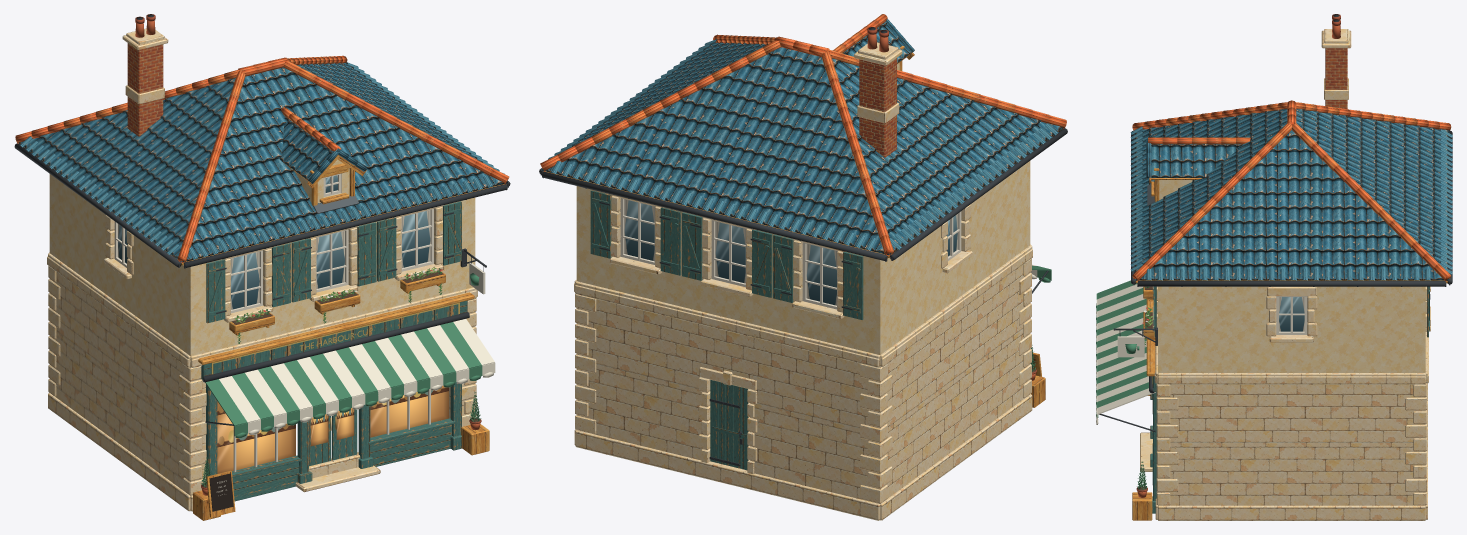
The picture shows the model from 3 angles, left to right: view 1: azimuth 30°, elevation 25°; view 2: azimuth 150°, elevation 25°; view 3: azimuth 270°, elevation 25°; orthographic projection. The views are drawn at different scales.
Parts seen in each view (by area): view 1: seaside_roof, seaside_stone, house_paint, seaside_shutter, seaside_plaster, seaside_ridge, shop_glass, house_window_pane, seaside_timber, house_brick, detail_window_boxes, detail_planters (+1 smaller); view 2: seaside_stone, seaside_roof, seaside_plaster, seaside_shutter, house_paint, seaside_ridge, house_window_pane, house_brick; view 3: seaside_roof, seaside_stone, seaside_plaster, house_paint, seaside_ridge, house_brick, seaside_timber, seaside_shutter, house_window_pane, detail_planters, detail_window_boxes.
Part boxes in pixels (<box>): seaside_roof: <box>19,62,508,262</box>; seaside_stone: <box>47,28,477,511</box>; house_paint: <box>14,14,510,471</box>; seaside_shutter: <box>201,201,467,501</box>; seaside_plaster: <box>49,159,475,356</box>; seaside_ridge: <box>15,55,509,262</box>; shop_glass: <box>217,385,448,473</box>; house_window_pane: <box>118,175,430,309</box>; seaside_timber: <box>24,147,506,364</box>; house_brick: <box>127,43,163,136</box>; detail_window_boxes: <box>229,267,445,343</box>; detail_planters: <box>193,392,489,520</box>; seaside_stone: <box>574,42,1032,520</box>; seaside_roof: <box>541,19,1063,255</box>; seaside_plaster: <box>576,63,1030,355</box>; seaside_shutter: <box>590,190,863,470</box>; house_paint: <box>539,27,1067,466</box>; seaside_ridge: <box>540,14,1066,255</box>; house_window_pane: <box>624,199,957,305</box>; house_brick: <box>859,58,896,157</box>; seaside_roof: <box>1130,109,1452,280</box>; seaside_stone: <box>1140,29,1430,520</box>; seaside_plaster: <box>1158,180,1425,373</box>; house_paint: <box>1096,14,1452,432</box>; seaside_ridge: <box>1132,100,1451,281</box>; house_brick: <box>1325,48,1347,108</box>; seaside_timber: <box>1135,168,1447,376</box>; seaside_shutter: <box>1150,286,1429,513</box>; house_window_pane: <box>1279,297,1304,331</box>; detail_planters: <box>1132,395,1152,520</box>; detail_window_boxes: <box>1142,286,1155,346</box>.
Size of the model in its own units: 8.22 by 9.71 by 8.
10 materials, 10 textured.
